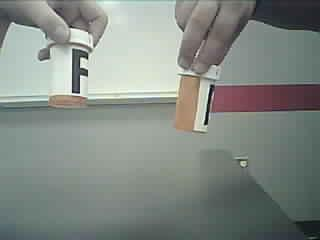Bottle D: (176, 55, 221, 141)
Bottle F: (43, 27, 97, 117)
